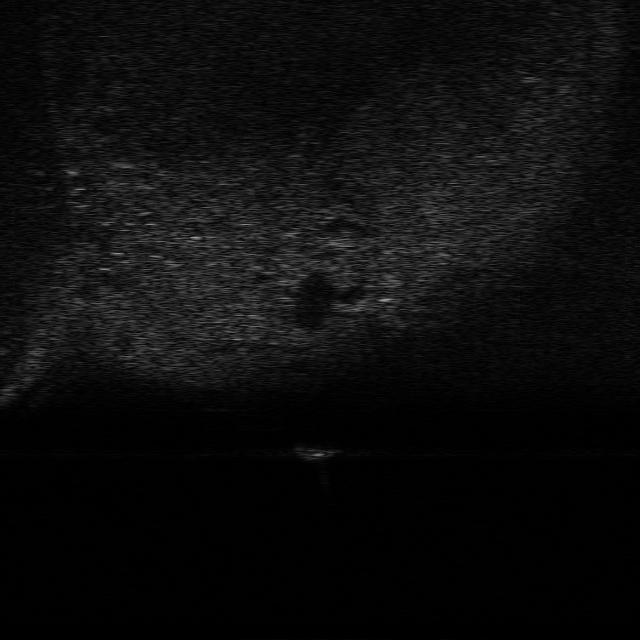cube: (291, 440, 340, 464)
